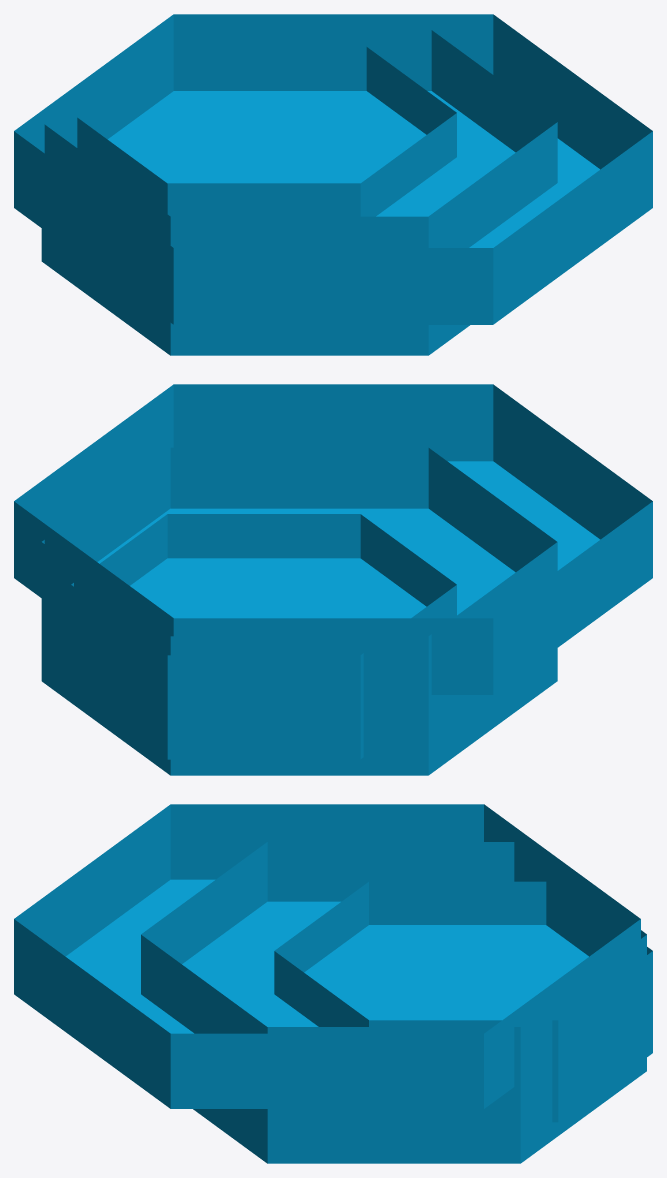
File: ModeloNivel2.fbx
The picture shows the model from 3 angles, top to bottom: view 1: azimuth 30°, elevation 25°; view 2: azimuth 150°, elevation 25°; view 3: azimuth 270°, elevation 25°; orthographic projection.
Visible parts, largest first — view 1: Cilindro, Cilindro.001, Cilindro.002; view 2: Cilindro, Cilindro.001, Cilindro.002; view 3: Cilindro, Cilindro.001, Cilindro.002.
Part boxes in pixels (x1,y1,x2,y2): Cilindro: [14, 14, 652, 324]; Cilindro.001: [41, 30, 557, 355]; Cilindro.002: [77, 47, 456, 216]; Cilindro: [14, 384, 652, 694]; Cilindro.001: [41, 447, 557, 775]; Cilindro.002: [71, 514, 456, 759]; Cilindro: [14, 804, 640, 1108]; Cilindro.001: [141, 842, 646, 1163]; Cilindro.002: [274, 881, 652, 1122].
Size of the model in its own units: 182 by 56.39 by 215.
